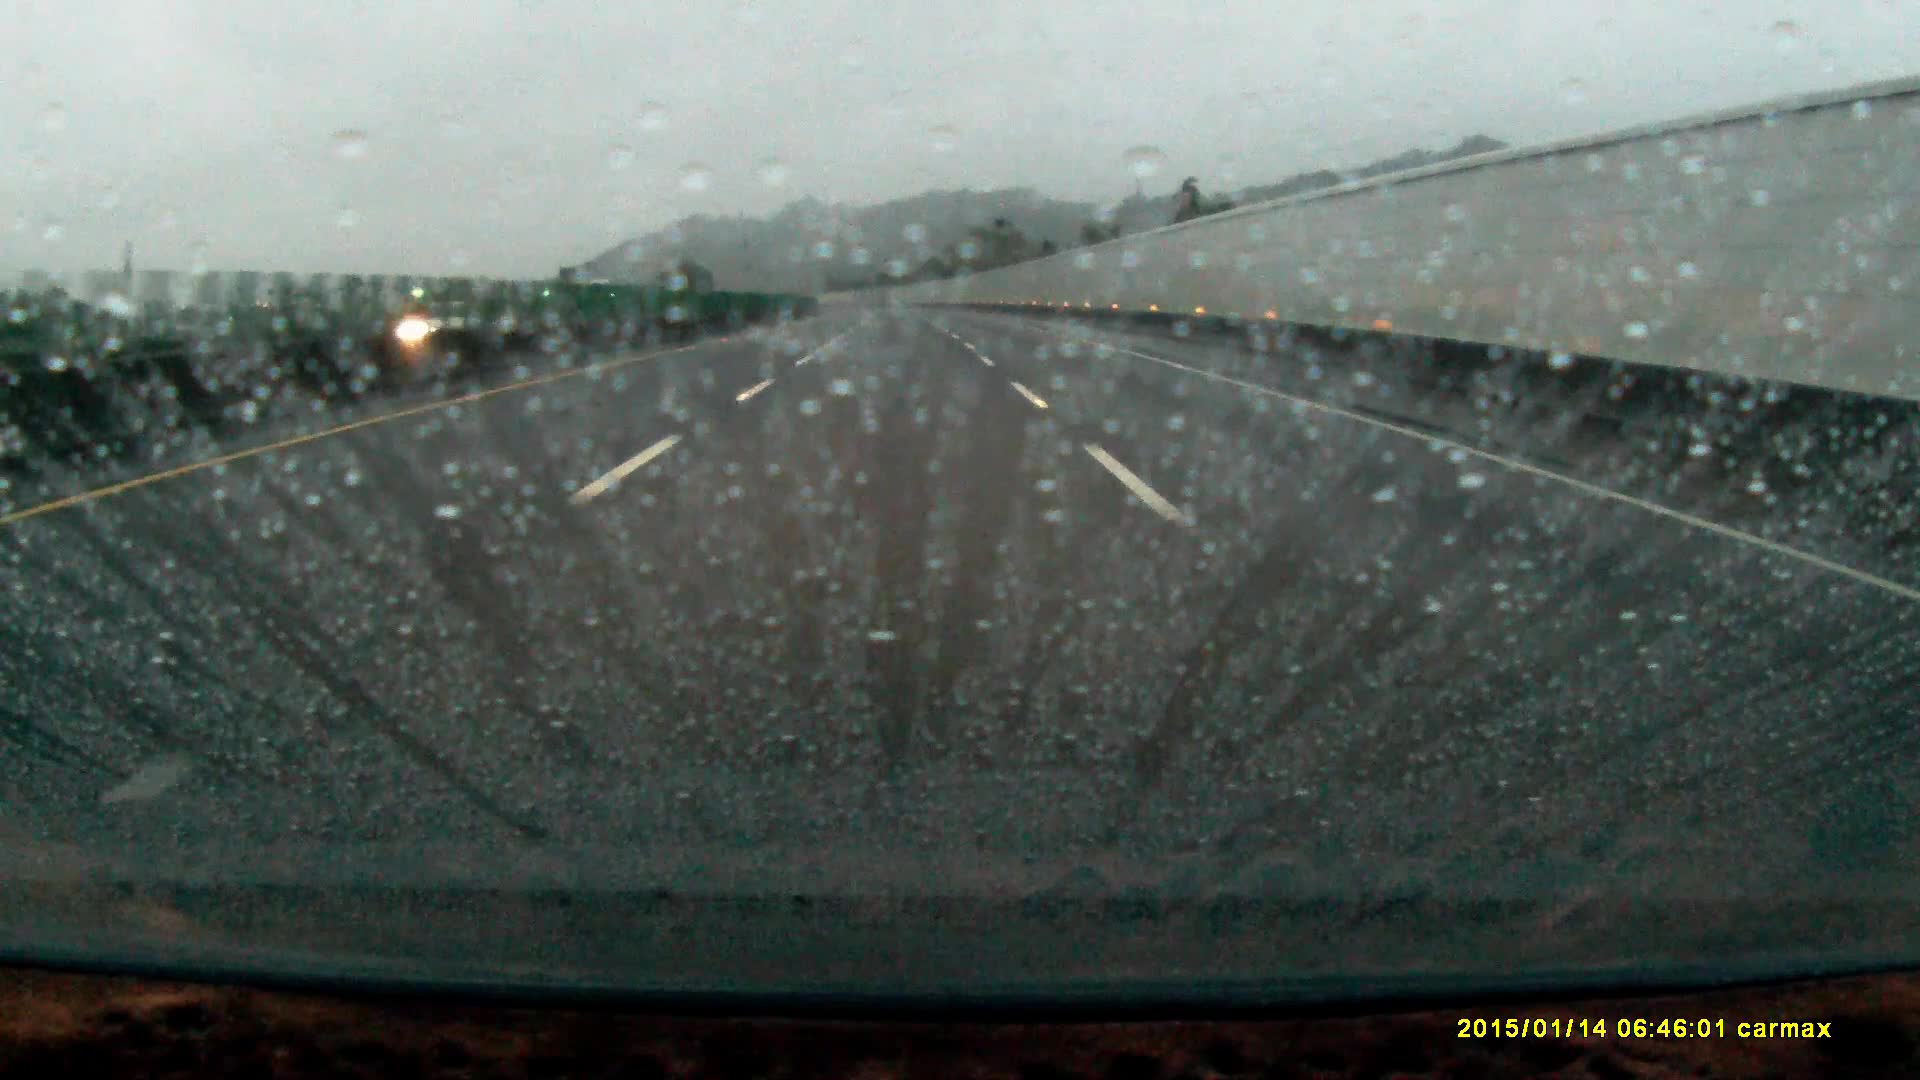vehicle: (392, 295, 484, 377)
